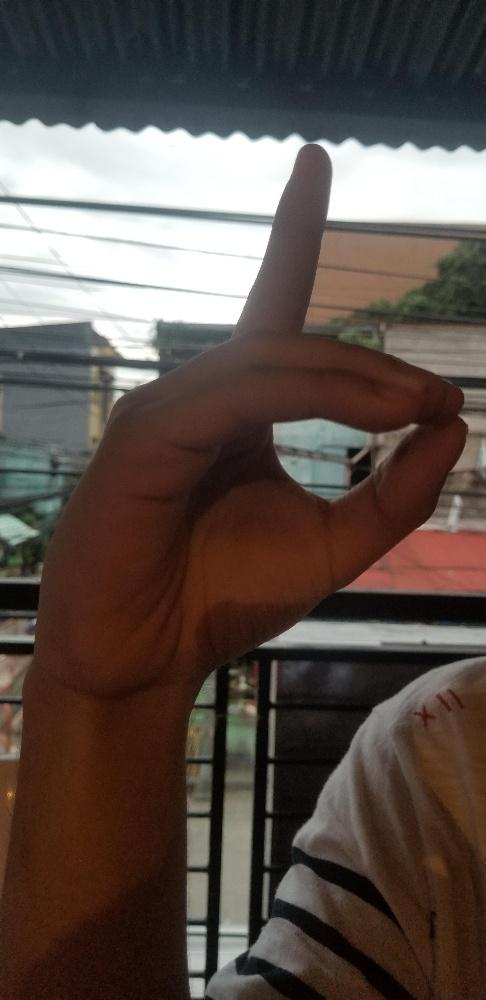d: (40, 140, 468, 688)
